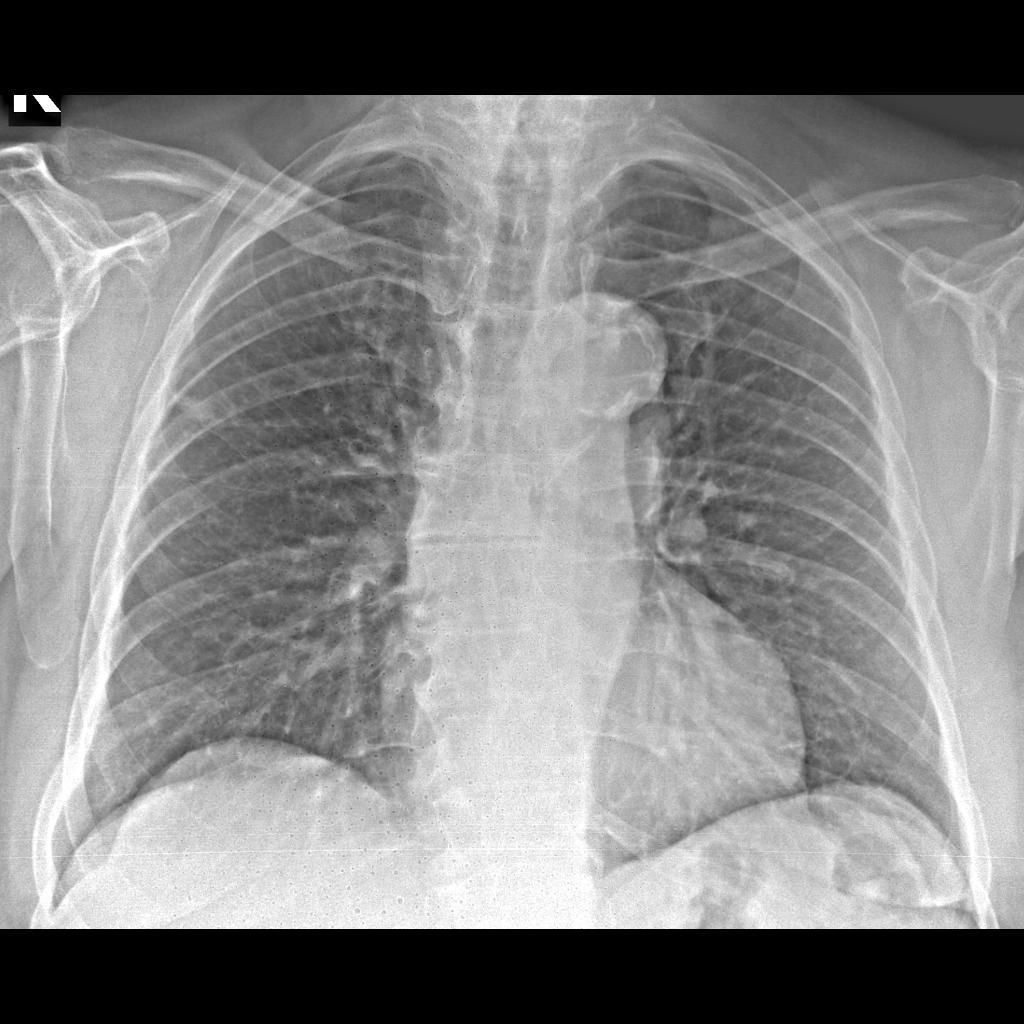Nodule: (164, 384, 231, 436)
